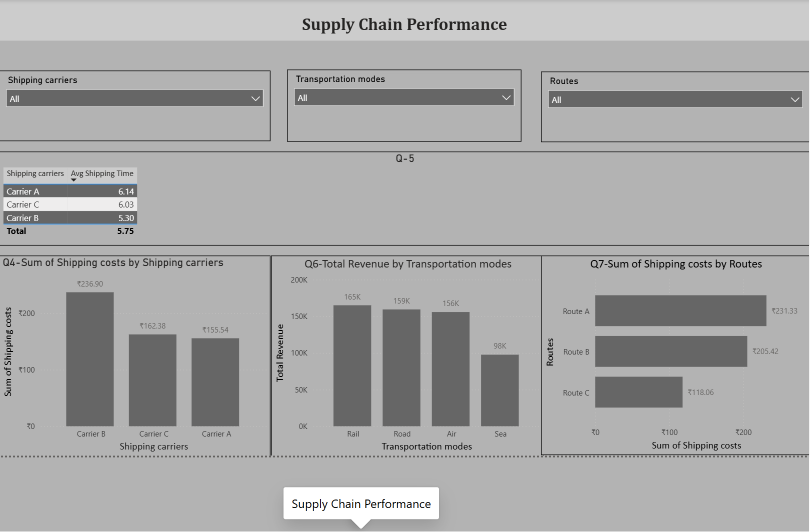

This screenshot's page, from the dashboard's own definition file:
{"tool":"powerbi","page":{"name":"Supply Chain Performance","canvas":[1280,720],"ordinal":1},"visuals":[{"type":"clusteredColumnChart","title":"Q4-Sum of Shipping costs by Shipping carriers","fields":{"Category":["project_supply_chain_data supply_chain_data.Shipping carriers"],"Y":["Sum(project_supply_chain_data supply_chain_data.Shipping costs)"]},"box":[0,404.3,428.7,317],"z":0},{"type":"tableEx","title":"Q-5","fields":{"Values":["project_supply_chain_data supply_chain_data.Shipping carriers","project_supply_chain_data supply_chain_data.Avg Shipping Time"]},"box":[0,239.7,1280,148.3],"z":1000},{"type":"clusteredColumnChart","title":"Q6-Total Revenue by Transportation modes","fields":{"Category":["project_supply_chain_data supply_chain_data.Transportation modes"],"Y":["project_supply_chain_data supply_chain_data.Total Revenue"]},"box":[428.7,404.3,430.7,317],"z":2000},{"type":"barChart","title":"Q7-Sum of Shipping costs by Routes","fields":{"Category":["project_supply_chain_data supply_chain_data.Routes"],"Y":["Sum(project_supply_chain_data supply_chain_data.Shipping costs)"]},"box":[855.4,404.3,424.6,314.9],"z":3000},{"type":"textbox","box":[0,0,1280,65],"z":4000},{"type":"slicer","fields":{"Values":["project_supply_chain_data supply_chain_data.Shipping carriers"]},"box":[0,111.7,428.7,111.7],"z":5000},{"type":"slicer","fields":{"Values":["project_supply_chain_data supply_chain_data.Transportation modes"]},"box":[455.1,109.7,369.8,113.8],"z":6000},{"type":"slicer","fields":{"Values":["project_supply_chain_data supply_chain_data.Routes"]},"box":[855.4,113.8,424.6,111.7],"z":7000}]}

Visuals, with their boxes on the page's 1280x720 design canvas (x1, y1, x2, y2). These are canvas units, not pixel positions in the 810x532 screenshot, which may show the page scaled, cropped or inside an application window:
"Q4-Sum of Shipping costs by Shipping carriers" clusteredColumnChart: (left=0, top=404, right=429, bottom=721)
"Q-5" tableEx: (left=0, top=240, right=1280, bottom=388)
"Q6-Total Revenue by Transportation modes" clusteredColumnChart: (left=429, top=404, right=859, bottom=721)
"Q7-Sum of Shipping costs by Routes" barChart: (left=855, top=404, right=1280, bottom=719)
textbox: (left=0, top=0, right=1280, bottom=65)
slicer - project_supply_chain_data supply_chain_data.Shipping carriers: (left=0, top=112, right=429, bottom=223)
slicer - project_supply_chain_data supply_chain_data.Transportation modes: (left=455, top=110, right=825, bottom=224)
slicer - project_supply_chain_data supply_chain_data.Routes: (left=855, top=114, right=1280, bottom=226)
